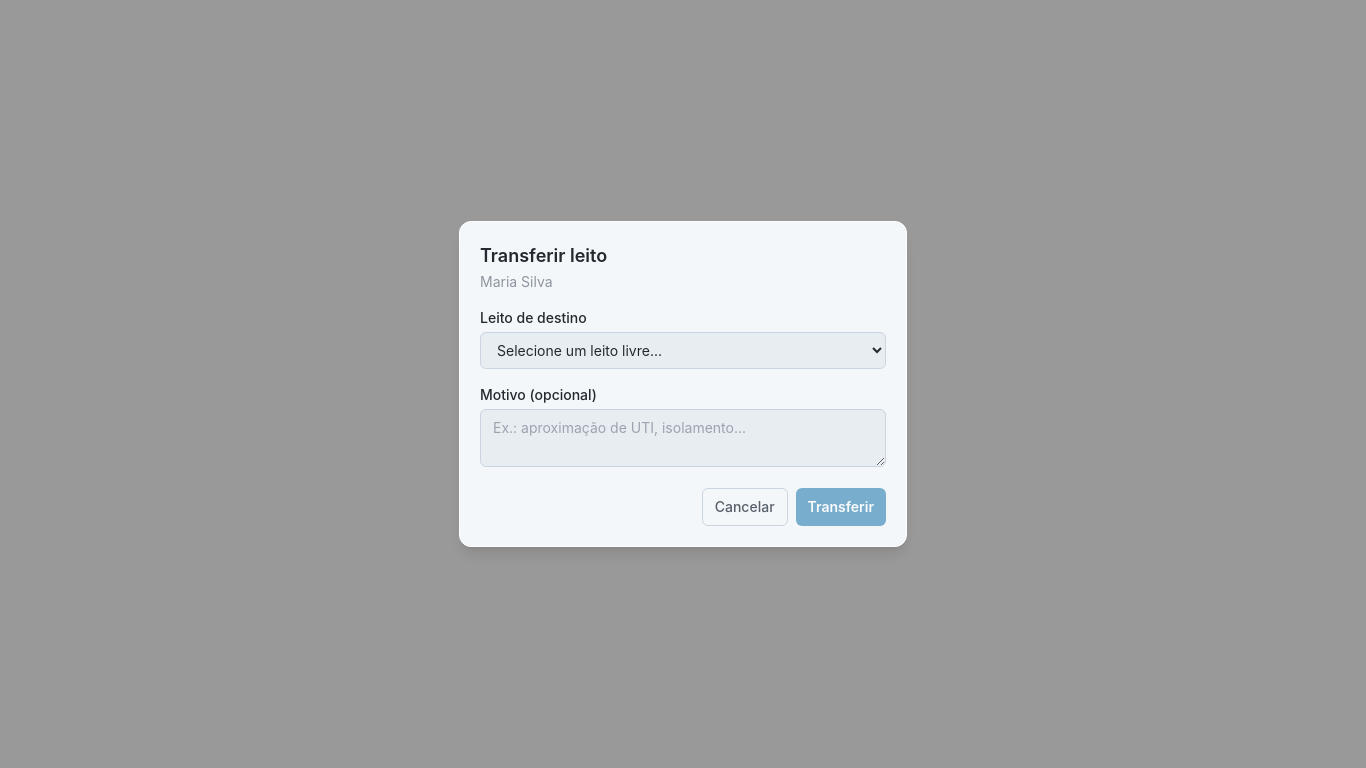
Scenario: TransferBedModal › surfaces a 409 as a friendly "leito ocupado" message
The width and height of the screenshot is (1366, 768).
Select "UTI-02" in the dropdown labelled "Leito de destino" at [683, 350], box [480, 332, 886, 369]
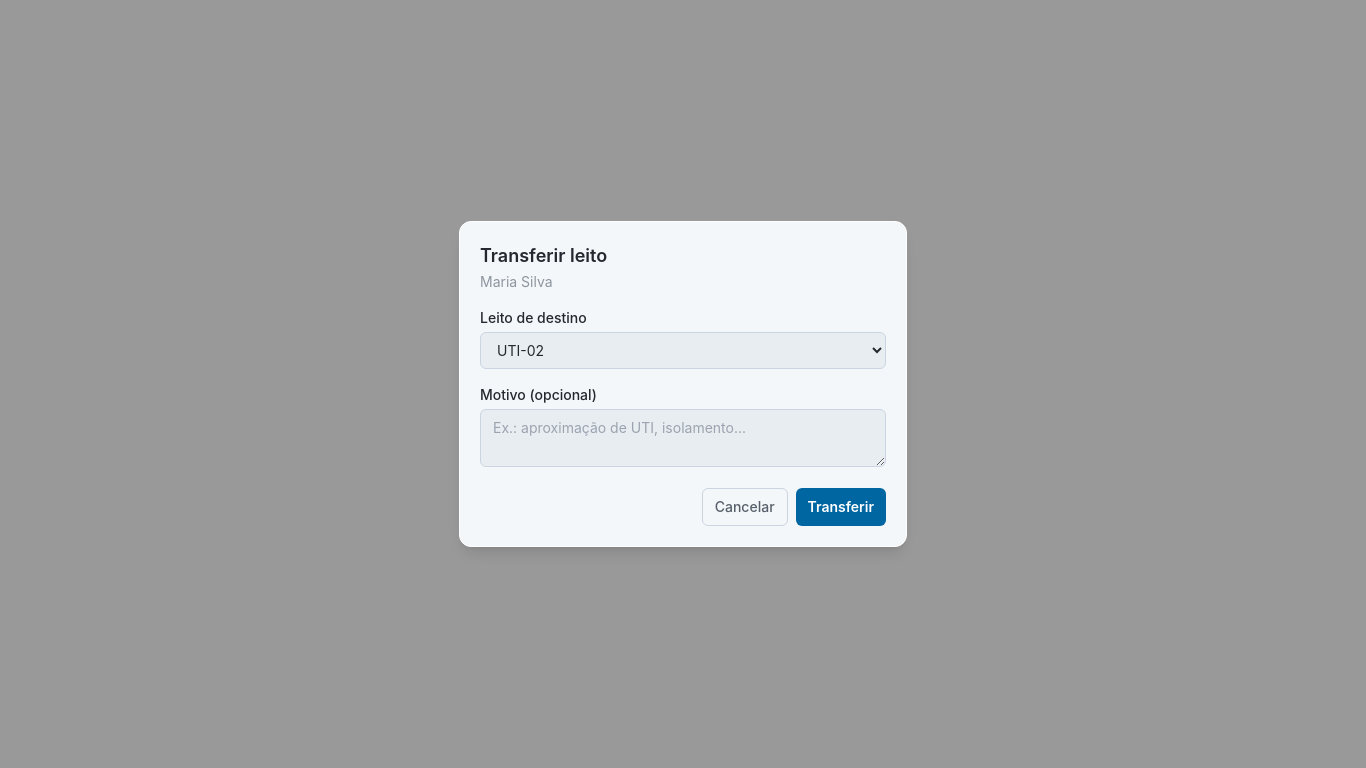
Click the button "Transferir".
click(841, 507)  # box [796, 488, 886, 526]
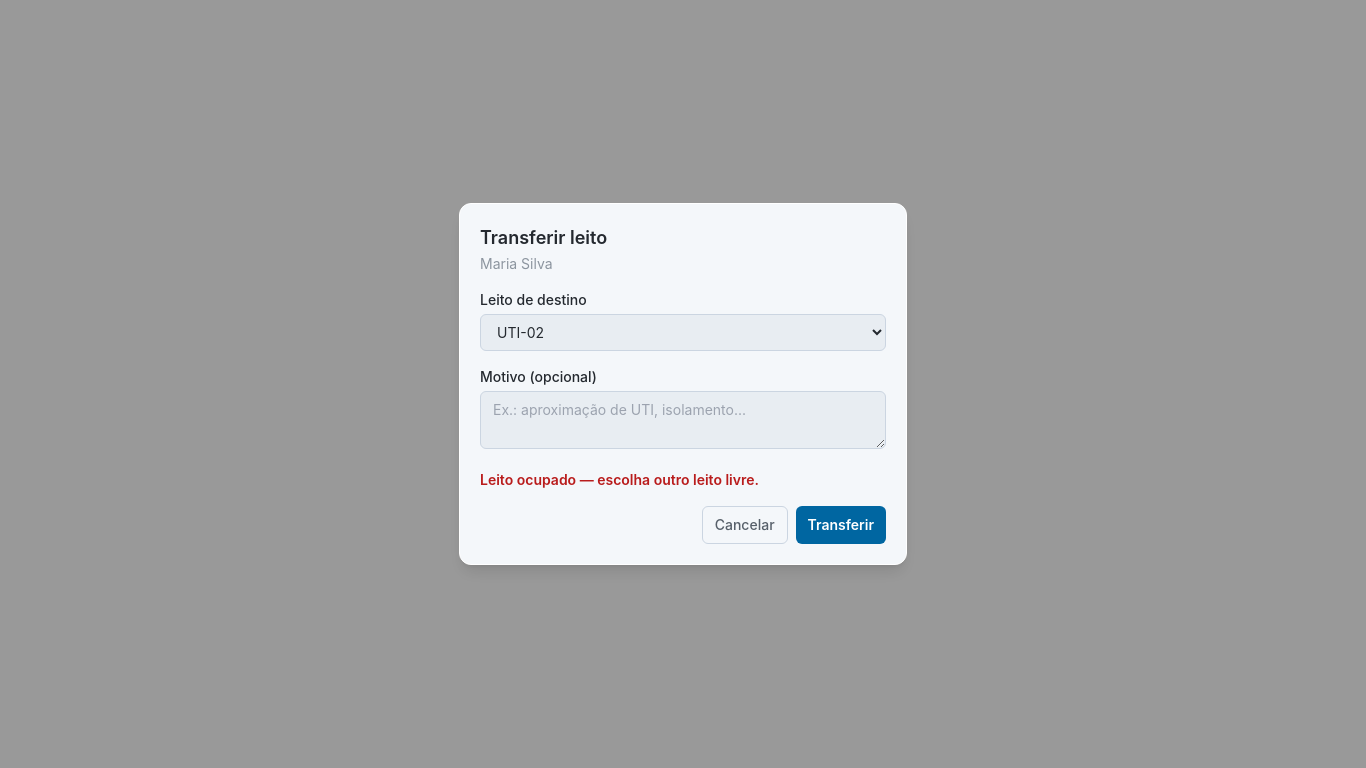
Expected: the text "Leito ocupado — escolha outro leito livre." is shown, [480, 471, 759, 488]
